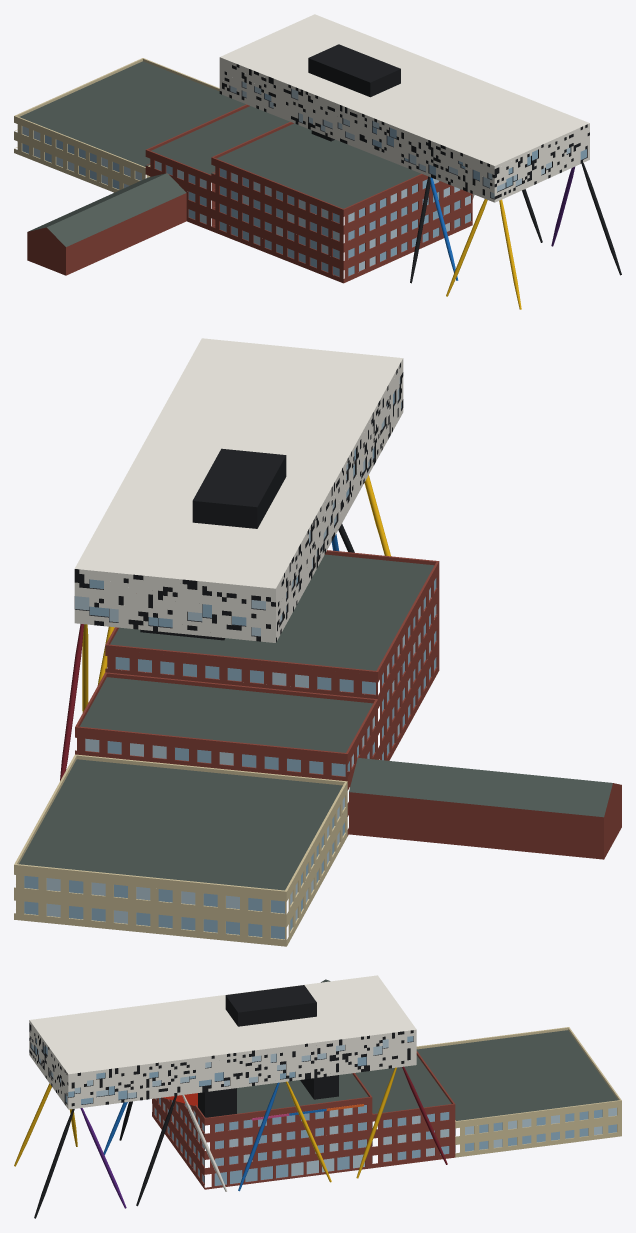
The model's file is sharp-centre-for-design-near.glb.
The picture shows the model from 3 angles, top to bottom: view 1: azimuth 30°, elevation 25°; view 2: azimuth 150°, elevation 25°; view 3: azimuth 270°, elevation 25°; orthographic projection. The views are drawn at different scales.
Visible parts, largest first — view 1: sharp-centre-for-design-0-panel_white, sharp-centre-for-design-0-roof_dark, sharp-centre-for-design-0-brick, sharp-centre-for-design-0-panel_black, sharp-centre-for-design-0-glass, sharp-centre-for-design-0-brick_pale, sharp-centre-for-design-0-glow, sharp-centre-for-design-0-leg_yellow, sharp-centre-for-design-0-leg_blue; view 2: sharp-centre-for-design-0-roof_dark, sharp-centre-for-design-0-panel_white, sharp-centre-for-design-0-brick, sharp-centre-for-design-0-brick_pale, sharp-centre-for-design-0-panel_black, sharp-centre-for-design-0-glass, sharp-centre-for-design-0-glow, sharp-centre-for-design-0-leg_yellow, sharp-centre-for-design-0-leg_maroon; view 3: sharp-centre-for-design-0-panel_white, sharp-centre-for-design-0-roof_dark, sharp-centre-for-design-0-brick, sharp-centre-for-design-0-panel_black, sharp-centre-for-design-0-glass, sharp-centre-for-design-0-brick_pale, sharp-centre-for-design-0-glow, sharp-centre-for-design-0-leg_yellow, sharp-centre-for-design-0-leg_blue, sharp-centre-for-design-0-leg_purple, sharp-centre-for-design-0-leg_maroon.
Boxes of the visible parts, <box> form: sharp-centre-for-design-0-panel_white: <box>219,14,589,202</box>; sharp-centre-for-design-0-roof_dark: <box>19,61,420,246</box>; sharp-centre-for-design-0-brick: <box>27,104,472,283</box>; sharp-centre-for-design-0-panel_black: <box>219,44,621,283</box>; sharp-centre-for-design-0-glass: <box>22,93,586,276</box>; sharp-centre-for-design-0-brick_pale: <box>14,58,219,192</box>; sharp-centre-for-design-0-glow: <box>22,81,570,271</box>; sharp-centre-for-design-0-leg_yellow: <box>446,199,521,309</box>; sharp-centre-for-design-0-leg_blue: <box>430,177,458,280</box>; sharp-centre-for-design-0-roof_dark: <box>19,554,612,890</box>; sharp-centre-for-design-0-panel_white: <box>74,338,403,642</box>; sharp-centre-for-design-0-brick: <box>75,550,621,859</box>; sharp-centre-for-design-0-brick_pale: <box>14,754,347,946</box>; sharp-centre-for-design-0-panel_black: <box>74,362,403,642</box>; sharp-centre-for-design-0-glass: <box>24,392,436,939</box>; sharp-centre-for-design-0-glow: <box>46,377,436,923</box>; sharp-centre-for-design-0-leg_yellow: <box>82,475,390,712</box>; sharp-centre-for-design-0-leg_maroon: <box>60,624,83,780</box>; sharp-centre-for-design-0-panel_white: <box>29,975,416,1191</box>; sharp-centre-for-design-0-roof_dark: <box>237,979,617,1120</box>; sharp-centre-for-design-0-brick: <box>152,1051,455,1189</box>; sharp-centre-for-design-0-panel_black: <box>29,985,413,1218</box>; sharp-centre-for-design-0-glass: <box>35,1036,616,1185</box>; sharp-centre-for-design-0-brick_pale: <box>416,1027,621,1157</box>; sharp-centre-for-design-0-glow: <box>31,1039,616,1176</box>; sharp-centre-for-design-0-leg_yellow: <box>14,1067,396,1182</box>; sharp-centre-for-design-0-leg_blue: <box>103,1082,326,1191</box>; sharp-centre-for-design-0-leg_purple: <box>80,1108,126,1208</box>; sharp-centre-for-design-0-leg_maroon: <box>402,1066,447,1164</box>.
Size of the model in its own units: 111 by 38.68 by 140.
